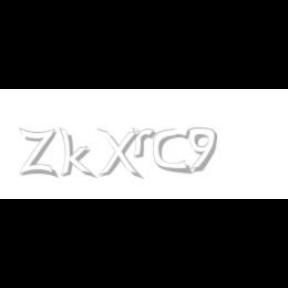9: (189, 128, 218, 172)
C: (154, 128, 190, 174)
X: (97, 128, 141, 180)
Z: (20, 128, 56, 178)
k: (59, 128, 97, 180)
r: (132, 128, 158, 158)
